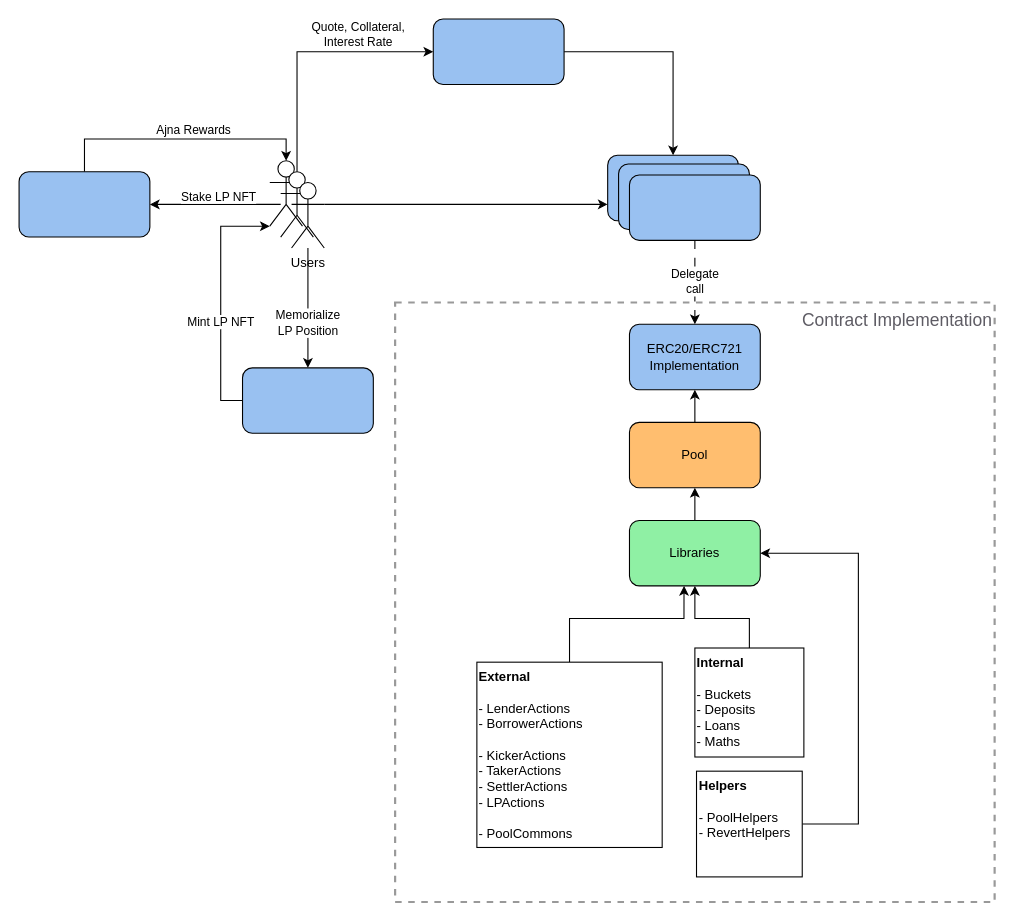
This 1015x922 diagram has some shape labels left out. The centre of each missing label's shape, as x and y in pixels:
ERC20/ERC721 Pool Proxy: (x=694, y=207)
Factory: (x=498, y=51)
PositionManager: (x=307, y=400)
RewardsManager: (x=84, y=204)
